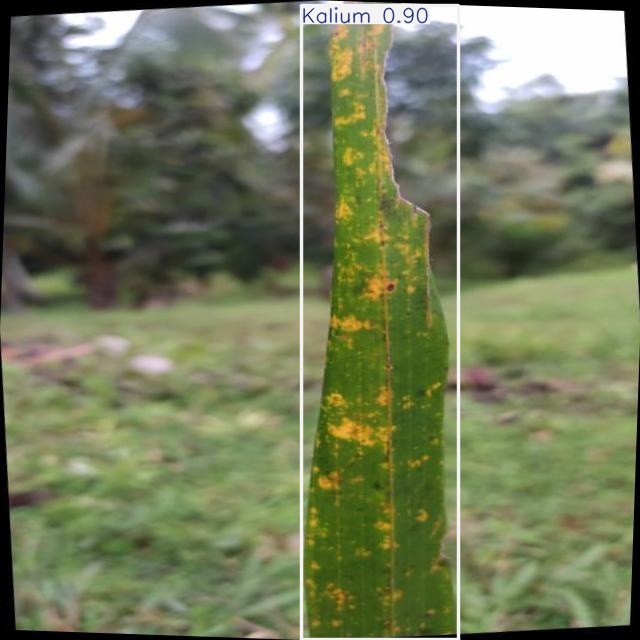Kalium: (302, 6, 458, 639)
